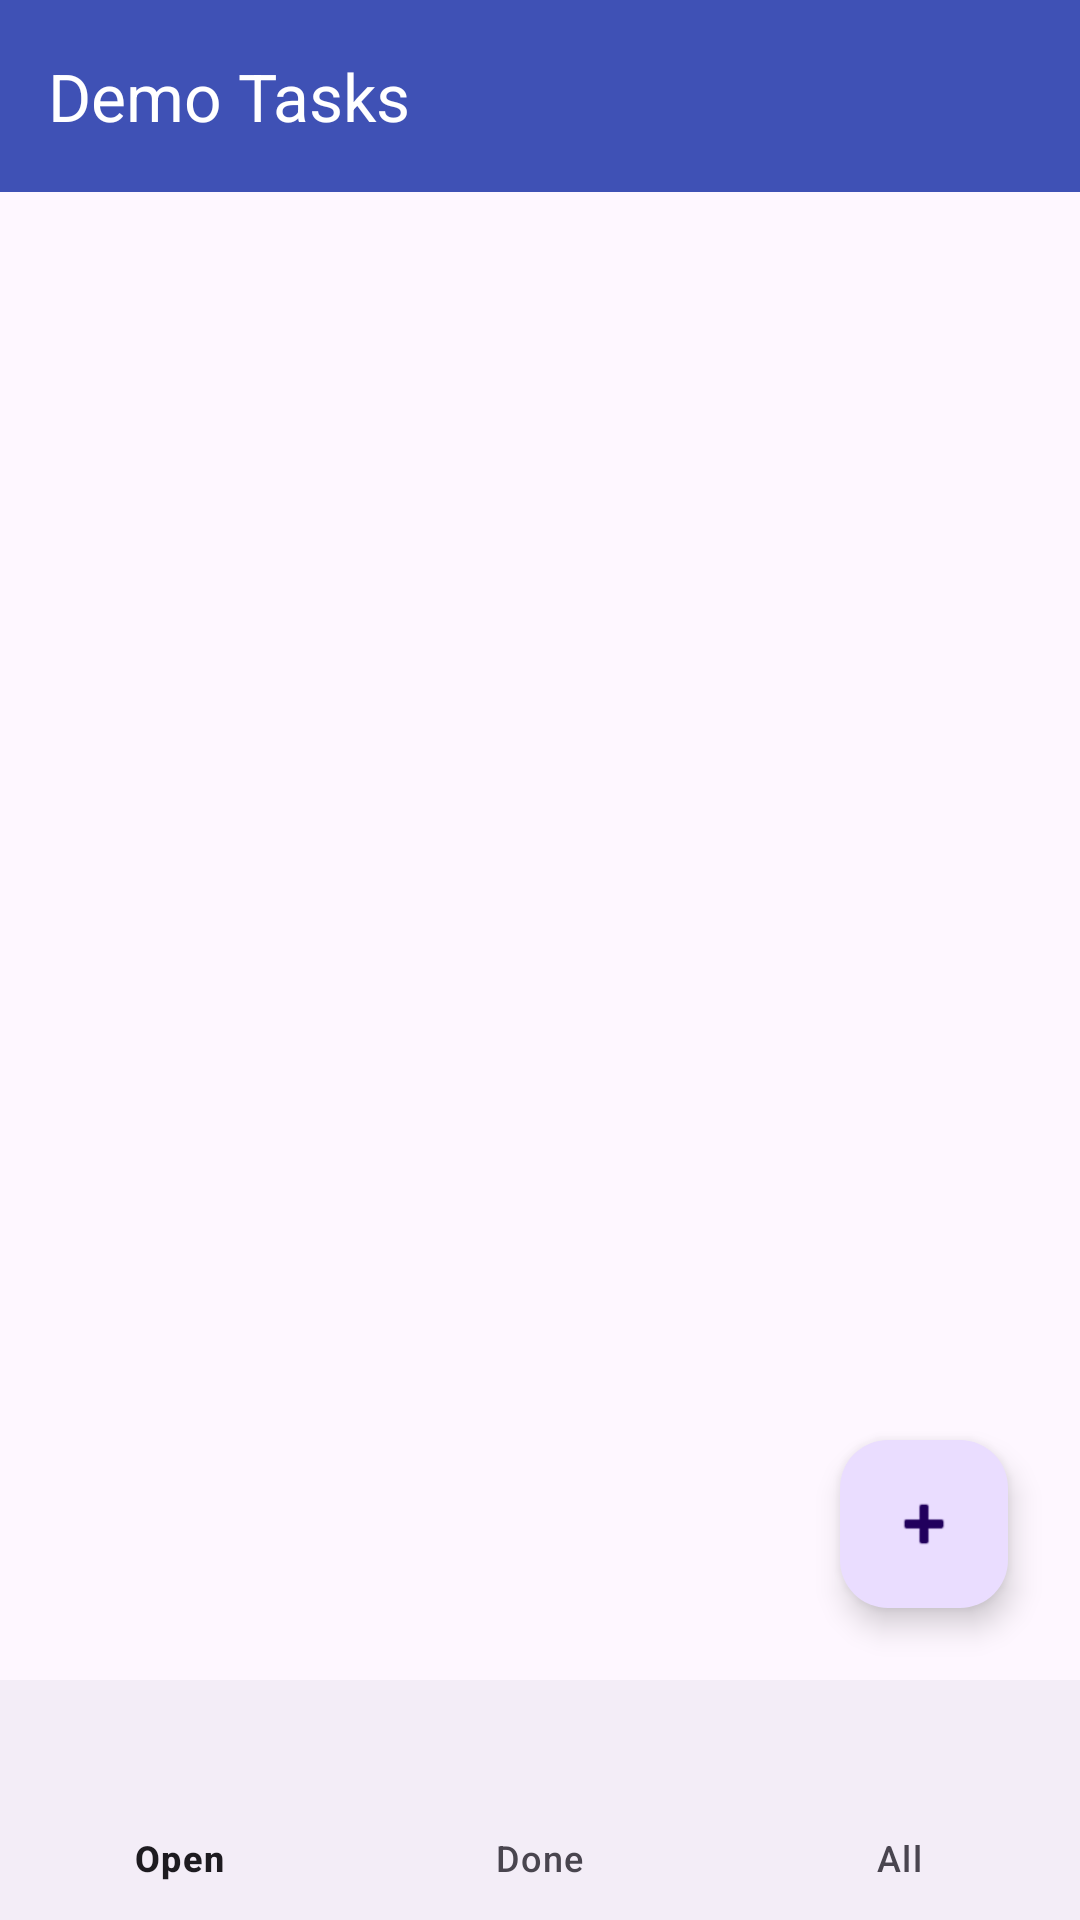

Icon click points for this 1080w x 1920h phone screenshot, format [x,y]:
Add task: [924,1524]
